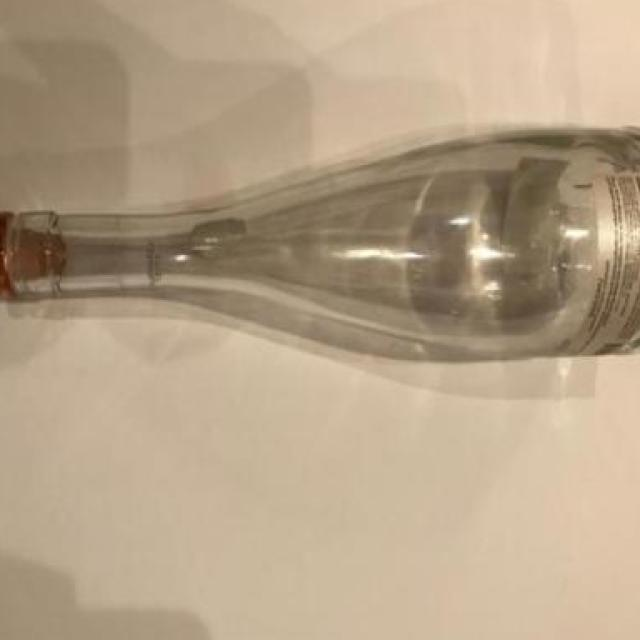kaca: (5, 125, 640, 363)
